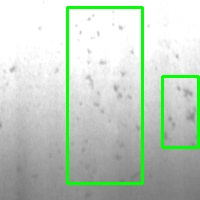pitted_surface: (67, 7, 142, 183), (162, 76, 198, 147)
